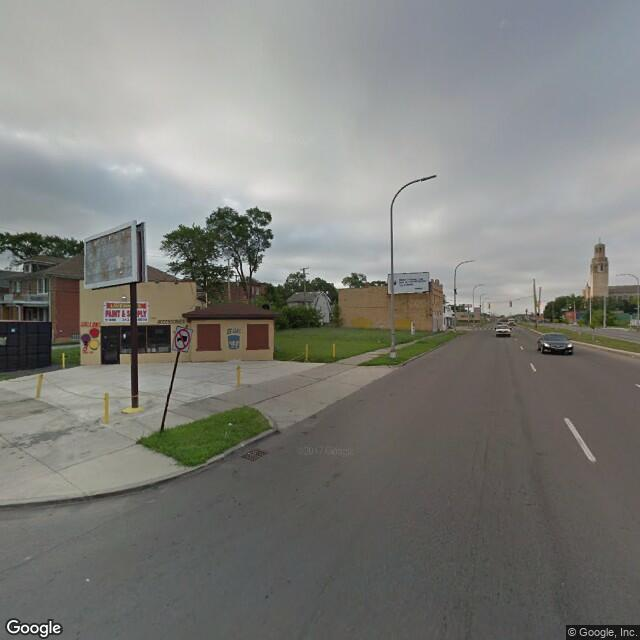litter: (226, 420, 233, 425)
